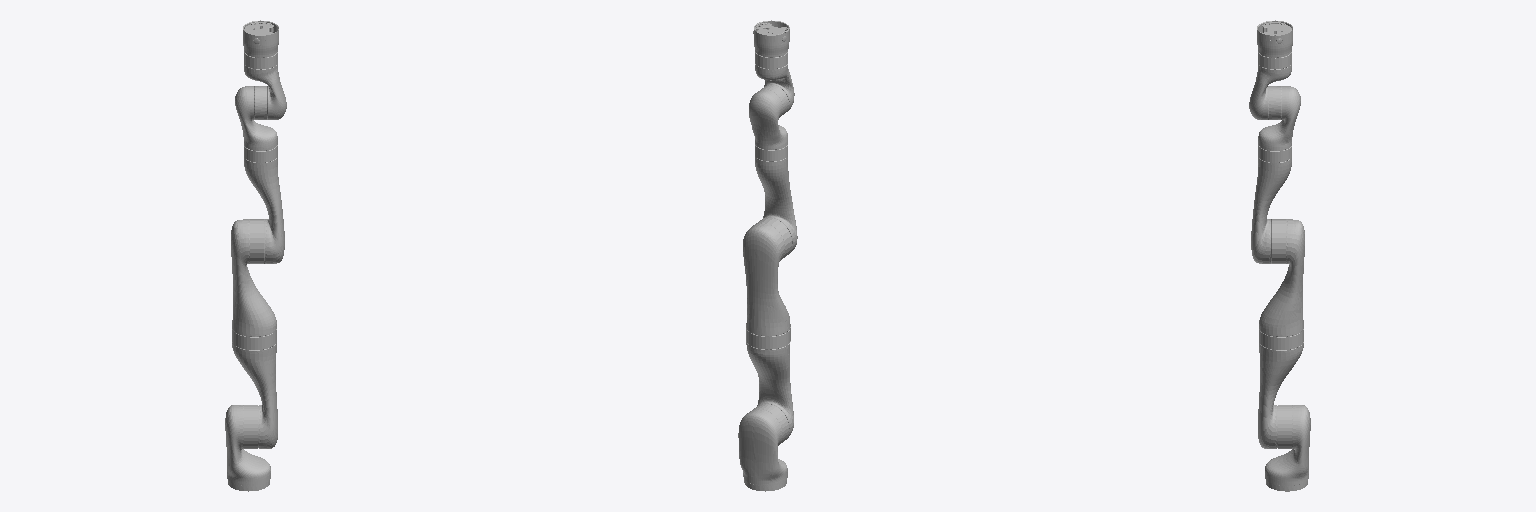
URDF robot description (GEN3_URDF_V12):
<?xml version="1.0" ?>
<robot name="GEN3_URDF_V12" version="1.0">
  <!-- <link name="world">
  </link>
  <joint name="Fix_world" type="fixed">
    <parent link="world" />
    <child link="Base_Link" />
  </joint> -->
  <link name="Base_Link">
    <inertial>
      <origin xyz="-0.000648 -0.000166 0.084487" rpy="0 0 0" />
      <mass value="0" />
      <inertia ixx="0.004622" ixy="9E-06" ixz="6E-05" iyy="0.004495" iyz="9E-06" izz="0.002079" />
    </inertial>
    <visual>
      <origin xyz="0 0 0" rpy="0 0 0" />
      <geometry>
        <mesh filename="meshes/base_link.obj" />
      </geometry>
      <material name="">
        <color rgba="0.75294 0.75294 0.75294 1" />
      </material>
    </visual>
    <collision>
      <origin xyz="0 0 0" rpy="0 0 0" />
      <geometry>
        <mesh filename="meshes/base_link.stl" />
      </geometry>
    </collision>
  </link>
  <link name="Shoulder_Link">
    <inertial>
      <origin xyz="-2.3E-05 -0.010364 -0.07336" rpy="0 0 0" />
      <mass value="1.3773" />
      <inertia ixx="0.00457" ixy="1E-06" ixz="2E-06" iyy="0.004831" iyz="0.000448" izz="0.001409" />
    </inertial>
    <visual>
      <origin xyz="0 0 0" rpy="0 0 0" />
      <geometry>
        <mesh filename="meshes/shoulder_link.obj" />
      </geometry>
      <material name="">
        <color rgba="0.75294 0.75294 0.75294 1" />
      </material>
    </visual>
    <collision>
      <origin xyz="0 0 0" rpy="0 0 0" />
      <geometry>
        <mesh filename="meshes/shoulder_link.stl" />
      </geometry>
    </collision>
  </link>
  <joint name="Actuator1" type="continuous">
    <origin xyz="0 0 0.15643" rpy="3.1416 2.7629E-18 -4.9305E-36" />
    <parent link="Base_Link" />
    <child link="Shoulder_Link" />
    <axis xyz="0 0 1" />
    <limit lower="-1000" upper="1000" effort="39" velocity="0.8727" />
  </joint>
  <link name="HalfArm1_Link">
    <inertial>
      <origin xyz="-4.4E-05 -0.09958 -0.013278" rpy="0 0 0" />
      <mass value="1.1636" />
      <inertia ixx="0.011088" ixy="5E-06" ixz="0" iyy="0.001072" iyz="-0.000691" izz="0.011255" />
    </inertial>
    <visual>
      <origin xyz="0 0 0" rpy="0 0 0" />
      <geometry>
        <mesh filename="meshes/half_arm_1_link.obj" />
      </geometry>
      <material name="">
        <color rgba="0.75294 0.75294 0.75294 1" />
      </material>
    </visual>
    <collision>
      <origin xyz="0 0 0" rpy="0 0 0" />
      <geometry>
        <mesh filename="meshes/half_arm_1_link.stl" />
      </geometry>
    </collision>
  </link>
  <joint name="Actuator2" type="revolute">
    <origin xyz="0 0.005375 -0.12838" rpy="1.5708 2.1343E-17 -1.1102E-16" />
    <parent link="Shoulder_Link" />
    <child link="HalfArm1_Link" />
    <axis xyz="0 0 1" />
    <limit lower="-2.41" upper="2.41" effort="39" velocity="0.8727" />
  </joint>
  <link name="HalfArm2_Link">
    <inertial>
      <origin xyz="-4.4E-05 -0.006641 -0.117892" rpy="0 0 0" />
      <mass value="1.1636" />
      <inertia ixx="0.010932" ixy="0" ixz="-7E-06" iyy="0.011127" iyz="0.000606" izz="0.001043" />
    </inertial>
    <visual>
      <origin xyz="0 0 0" rpy="0 0 0" />
      <geometry>
        <mesh filename="meshes/half_arm_2_link.obj" />
      </geometry>
      <material name="">
        <color rgba="0.75294 0.75294 0.75294 1" />
      </material>
    </visual>
    <collision>
      <origin xyz="0 0 0" rpy="0 0 0" />
      <geometry>
        <mesh filename="meshes/half_arm_2_link.stl" />
      </geometry>
    </collision>
  </link>
  <joint name="Actuator3" type="continuous">
    <origin xyz="0 -0.21038 -0.006375" rpy="-1.5708 1.2326E-32 -2.9122E-16" />
    <parent link="HalfArm1_Link" />
    <child link="HalfArm2_Link" />
    <axis xyz="0 0 1" />
    <limit lower="-1000" upper="1000" effort="39" velocity="0.8727" />
  </joint>
  <link name="ForeArm_Link">
    <inertial>
      <origin xyz="-1.8E-05 -0.075478 -0.015006" rpy="0 0 0" />
      <mass value="0.9302" />
      <inertia ixx="0.008147" ixy="-1E-06" ixz="0" iyy="0.000631" iyz="-0.0005" izz="0.008316" />
    </inertial>
    <visual>
      <origin xyz="0 0 0" rpy="0 0 0" />
      <geometry>
        <mesh filename="meshes/forearm_link.obj" />
      </geometry>
      <material name="">
        <color rgba="0.75294 0.75294 0.75294 1" />
      </material>
    </visual>
    <collision>
      <origin xyz="0 0 0" rpy="0 0 0" />
      <geometry>
        <mesh filename="meshes/forearm_link.stl" />
      </geometry>
    </collision>
  </link>
  <joint name="Actuator4" type="revolute">
    <origin xyz="0 0.006375 -0.21038" rpy="1.5708 -6.6954E-17 -1.6653E-16" />
    <parent link="HalfArm2_Link" />
    <child link="ForeArm_Link" />
    <axis xyz="0 0 1" />
    <limit lower="-2.66" upper="2.66" effort="39" velocity="0.8727" />
  </joint>
  <link name="SphericalWrist1_Link">
    <inertial>
      <origin xyz="1E-06 -0.009432 -0.063883" rpy="0 0 0" />
      <mass value="0.6781" />
      <inertia ixx="0.001596" ixy="0" ixz="0" iyy="0.001607" iyz="0.000256" izz="0.000399" />
    </inertial>
    <visual>
      <origin xyz="0 0 0" rpy="0 0 0" />
      <geometry>
        <mesh filename="meshes/spherical_wrist_1_link.obj" />
      </geometry>
      <material name="">
        <color rgba="0.75294 0.75294 0.75294 1" />
      </material>
    </visual>
    <collision>
      <origin xyz="0 0 0" rpy="0 0 0" />
      <geometry>
        <mesh filename="meshes/spherical_wrist_1_link.stl" />
      </geometry>
    </collision>
  </link>
  <joint name="Actuator5" type="continuous">
    <origin xyz="0 -0.20843 -0.006375" rpy="-1.5708 2.2204E-16 -6.373E-17" />
    <parent link="ForeArm_Link" />
    <child link="SphericalWrist1_Link" />
    <axis xyz="0 0 1" />
    <limit lower="-1000" upper="1000" effort="9" velocity="0.8727" />
  </joint>
  <link name="SphericalWrist2_Link">
    <inertial>
      <origin xyz="1E-06 -0.045483 -0.00965" rpy="0 0 0" />
      <mass value="0.6781" />
      <inertia ixx="0.001641" ixy="0" ixz="0" iyy="0.00041" iyz="-0.000278" izz="0.001641" />
    </inertial>
    <visual>
      <origin xyz="0 0 0" rpy="0 0 0" />
      <geometry>
        <mesh filename="meshes/spherical_wrist_2_link.obj" />
      </geometry>
      <material name="">
        <color rgba="0.75294 0.75294 0.75294 1" />
      </material>
    </visual>
    <collision>
      <origin xyz="0 0 0" rpy="0 0 0" />
      <geometry>
        <mesh filename="meshes/spherical_wrist_2_link.stl" />
      </geometry>
    </collision>
  </link>
  <joint name="Actuator6" type="revolute">
    <origin xyz="0 0.00017505 -0.10593" rpy="1.5708 9.2076E-28 -8.2157E-15" />
    <parent link="SphericalWrist1_Link" />
    <child link="SphericalWrist2_Link" />
    <axis xyz="0 0 1" />
    <limit lower="-2.23" upper="2.23" effort="9" velocity="0.8727" />
  </joint>
  <link name="Bracelet_Link">
    <inertial>
      <origin xyz="-0.000281 -0.011402 -0.029798" rpy="0 0 0" />
      <mass value="0.5006" />
      <inertia ixx="0.000587" ixy="3E-06" ixz="3E-06" iyy="0.000369" iyz="0.000118" izz="0.000609" />
    </inertial>
    <visual>
      <origin xyz="0 0 0" rpy="0 0 0" />
      <geometry>
        <mesh filename="meshes/bracelet_no_vision_link.obj" />
      </geometry>
      <material name="">
        <color rgba="0.75294 0.75294 0.75294 1" />
      </material>
    </visual>
    <collision>
      <origin xyz="0 0 0" rpy="0 0 0" />
      <geometry>
        <mesh filename="meshes/bracelet_no_vision_link.stl" />
      </geometry>
    </collision>
  </link>
  <joint name="Actuator7" type="continuous">
    <origin xyz="0 -0.10593 -0.00017505" rpy="-1.5708 -5.5511E-17 9.6396E-17" />
    <parent link="SphericalWrist2_Link" />
    <child link="Bracelet_Link" />
    <axis xyz="0 0 1" />
    <limit lower="-1000" upper="1000" effort="9" velocity="0.8727" />
  </joint>
  <link name="EndEffector_Link" />
  <joint name="EndEffector" type="fixed">
    <origin xyz="0 0 -0.0615250000000001" rpy="3.14159265358979 1.09937075168372E-32 0" />
    <parent link="Bracelet_Link" />
    <child link="EndEffector_Link" />
    <axis xyz="0 0 0" />
  </joint>
  
  <!-- <link name="Camera_Link" />
  <joint name="Camera" type="fixed">
    <origin xyz="0 0.05639 -0.00305" rpy="3.14159265358979 3.14159265358979 0" />
    <parent link="EndEffector_Link" />
    <child  link="Camera_Link" />
  </joint>
  <link name="Camera_Depth_Frame" />
  <joint name="Camera_Depth" type="fixed">
    <origin xyz="0.0275 0.066 -0.00305" rpy="3.14159265358979 3.14159265358979 0" />
    <parent link="EndEffector_Link" />
    <child  link="Camera_Depth_Frame" />
  </joint>
  <link name="Camera_Color_Frame" />
  <joint name="Camera_Color" type="fixed">
    <origin xyz="0 0.05639 -0.00305" rpy="3.14159265358979 3.14159265358979 0" />
    <parent link="EndEffector_Link" />
    <child  link="Camera_Color_Frame" />
  </joint> -->
  <link name="Tool_Frame"/>
  <joint name="Tool" type="fixed">
      <origin xyz="0 0 0.120" rpy="0 0 0" />
      <parent link="EndEffector_Link" />
      <child link="Tool_Frame" />
      <axis xyz="0 0 0" />
  </joint>

  <!-- <klampt world_frame="world" defaultAccMax="4">
    <noselfcollision group1="Base_Link Shoulder_Link" group2="HalfArm1_Link HalfArm2_Link ForeArm_Link SphericalWrist1_Link" />
    <noselfcollision group1="HalfArm1_Link HalfArm2_Link" group2="ForeArm_Link SphericalWrist1_Link" />
    <noselfcollision group1="HalfArm2_Link ForeArm_Link" group2="SphericalWrist1_Link SphericalWrist2_Link Bracelet_Link" />
    <noselfcollision group1="SphericalWrist1_Link" group2="Bracelet_Link" />
    
    <mount link="EndEffector_Link" file = "robotiq_85.rob" transform = "1 0 0   0 1 0  0 0 1  0 0 0" prefix="gripper"/>
    <noselfcollision group1="ForeArm_Link SphericalWrist1_Link SphericalWrist2_Link Bracelet_Link" group2="gripper:Link_0 gripper:Link_1 gripper:Link_2 gripper:Link_3 gripper:Link_4 gripper:Link_5 gripper:Link_6 gripper:Link_7 gripper:Link_8" />
    <noselfcollision group1="HalfArm2_Link" group2="gripper:Link_0" />
    
    <link name="Shoulder_Link" servoP="1400" servoI="0" servoD="6" dryFriction="0.5" viscousFriction="8" />
    <link name="HalfArm1_Link" servoP="1600" servoI="0" servoD="8" dryFriction="0.5" viscousFriction="10" />
    <link name="HalfArm2_Link" servoP="1000" servoI="0" servoD="3" dryFriction="0" viscousFriction="6" />
    <link name="ForeArm_Link" servoP="800" servoI="0" servoD="5" dryFriction="0" viscousFriction="4" />
    <link name="SphericalWrist1_Link" servoP="200" servoI="0" servoD=".5" dryFriction="0" viscousFriction="3" />
    <link name="SphericalWrist2_Link" servoP="50" servoI="0" servoD=".2" dryFriction="0" viscousFriction="2" />
    <link name="Bracelet_Link" servoP="20" servoI="0" servoD=".1" dryFriction="0" viscousFriction="1" />
  </klampt> -->

</robot>

--- Render facts (derived) ---
Views: 3 orthographic renders of the robot side by side, from view 1: azimuth 90°, elevation 25°; view 2: azimuth 150°, elevation 25°; view 3: azimuth 270°, elevation 25°.
Robot: GEN3_URDF_V12 — 10 links, 9 joints (3 revolute, 4 continuous, 2 fixed); root link Base_Link; default pose: all joints at 0.
Visible links, largest first — view 1: HalfArm2_Link, HalfArm1_Link, Shoulder_Link, ForeArm_Link, SphericalWrist1_Link, SphericalWrist2_Link, Bracelet_Link; view 2: HalfArm2_Link, Shoulder_Link, HalfArm1_Link, ForeArm_Link, SphericalWrist1_Link, Bracelet_Link, SphericalWrist2_Link; view 3: HalfArm2_Link, HalfArm1_Link, Shoulder_Link, ForeArm_Link, SphericalWrist1_Link, SphericalWrist2_Link, Bracelet_Link.
Link boxes in pixels (x1=…): HalfArm2_Link: x1=231, y1=219, x2=276, y2=336; HalfArm1_Link: x1=232, y1=329, x2=277, y2=448; Shoulder_Link: x1=225, y1=405, x2=270, y2=491; ForeArm_Link: x1=244, y1=145, x2=284, y2=263; SphericalWrist1_Link: x1=235, y1=86, x2=277, y2=150; SphericalWrist2_Link: x1=244, y1=52, x2=286, y2=119; Bracelet_Link: x1=243, y1=20, x2=278, y2=57; HalfArm2_Link: x1=743, y1=218, x2=791, y2=336; Shoulder_Link: x1=738, y1=404, x2=788, y2=491; HalfArm1_Link: x1=746, y1=327, x2=793, y2=439; ForeArm_Link: x1=755, y1=145, x2=797, y2=254; SphericalWrist1_Link: x1=749, y1=85, x2=788, y2=149; Bracelet_Link: x1=753, y1=20, x2=789, y2=57; SphericalWrist2_Link: x1=755, y1=52, x2=794, y2=111; HalfArm2_Link: x1=1259, y1=219, x2=1304, y2=336; HalfArm1_Link: x1=1258, y1=329, x2=1303, y2=448; Shoulder_Link: x1=1265, y1=405, x2=1310, y2=491; ForeArm_Link: x1=1251, y1=145, x2=1291, y2=263; SphericalWrist1_Link: x1=1258, y1=86, x2=1300, y2=150; SphericalWrist2_Link: x1=1249, y1=52, x2=1291, y2=119; Bracelet_Link: x1=1257, y1=20, x2=1292, y2=57.
Bounding box of the posed robot: 0.0927 × 0.1267 × 1.03 m (x, y, z).
Meshes: 8 distinct files referenced, 7 mesh visuals loaded (7 OBJ); not drawn: 1 (reference not matched to a file when rendering).